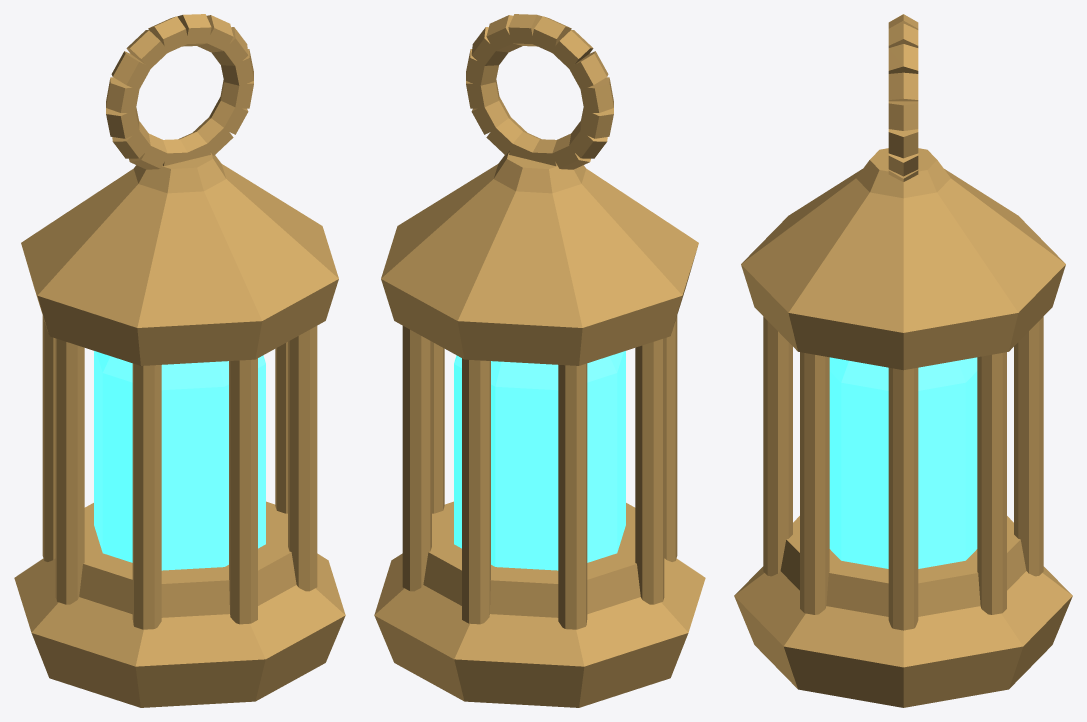
3 renders of one model, left to right at view 1: azimuth 30°, elevation 25°; view 2: azimuth 150°, elevation 25°; view 3: azimuth 270°, elevation 25°, orthographic.
Visible parts, largest first — view 1: body; view 2: body; view 3: body.
Part boxes in pixels (x1,y1,x2,y2): body: (14, 14, 345, 707); body: (374, 14, 705, 707); body: (734, 14, 1072, 707).
Bounding box in the file's own units: 0.5 × 1.01 × 0.5.
